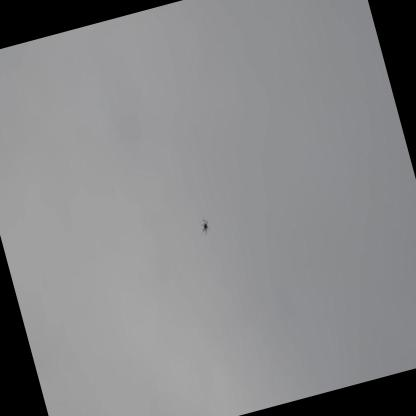drone: (196, 215, 215, 238)
